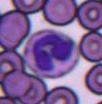N: (23, 28, 79, 78)
